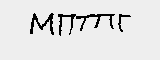Г: (116, 10, 132, 35)
М: (29, 10, 54, 39)
П: (56, 11, 76, 39), (92, 10, 115, 32)
Т: (71, 12, 95, 34)
